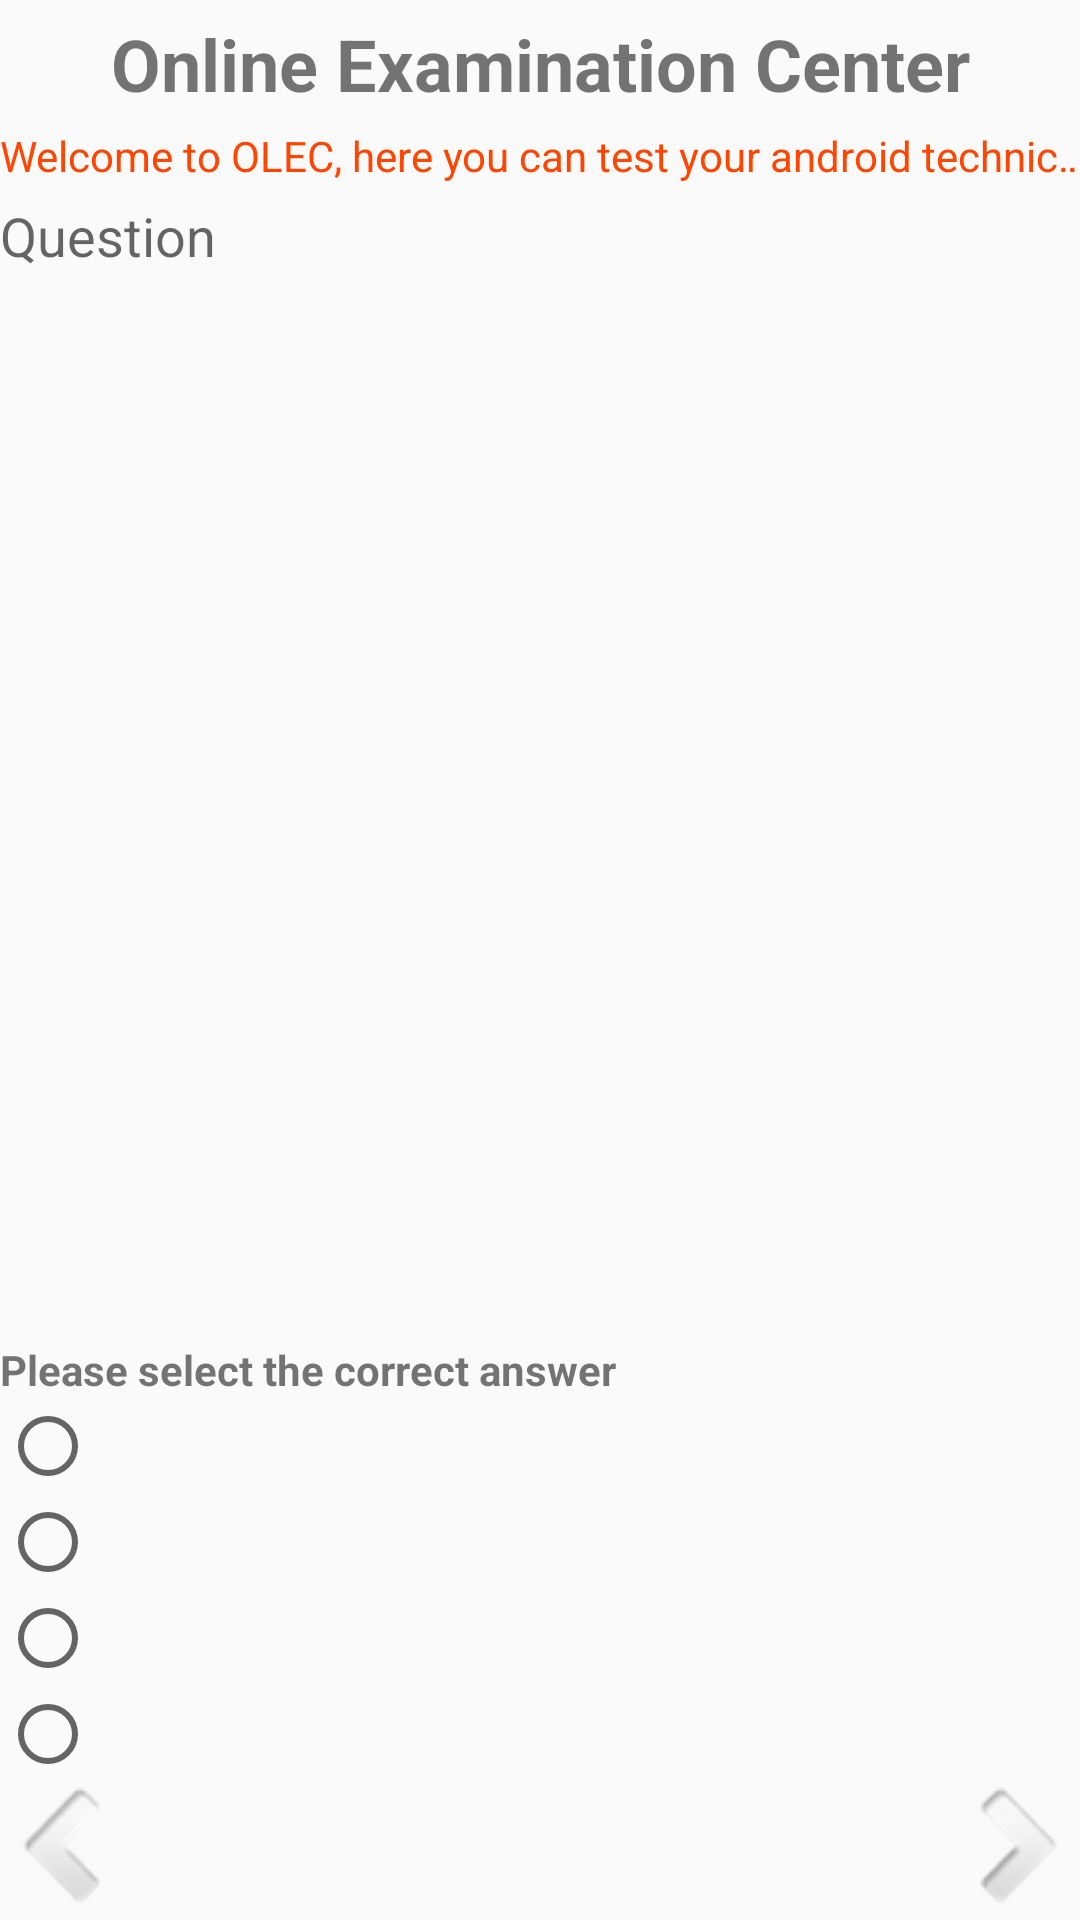

Where to tap for icons on this 1080 x 1920 app screen, as (x=x, y=y):
left arrow: (x=62, y=1844)
right arrow: (x=1017, y=1843)
